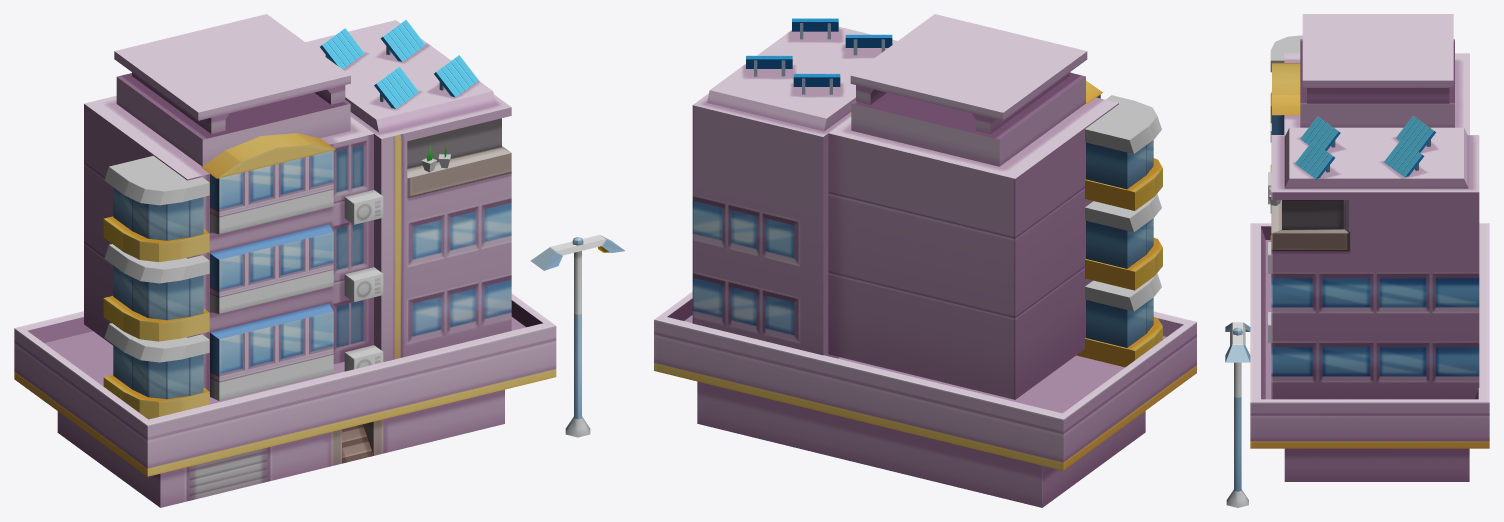
Rendered from xiaoqu02.FBX.
3 renders of one model, left to right at view 1: azimuth 30°, elevation 25°; view 2: azimuth 150°, elevation 25°; view 3: azimuth 270°, elevation 25°, orthographic. The views are drawn at different scales.
Parts seen in each view (by area): view 1: xiaoqu02; view 2: xiaoqu02; view 3: xiaoqu02.
Part boxes in pixels (<box>): xiaoqu02: <box>14,14,624,507</box>; xiaoqu02: <box>654,14,1196,507</box>; xiaoqu02: <box>1225,14,1489,507</box>.
Bounding box in the file's own units: 1452 × 1125 × 796.
1 material, 1 textured.
